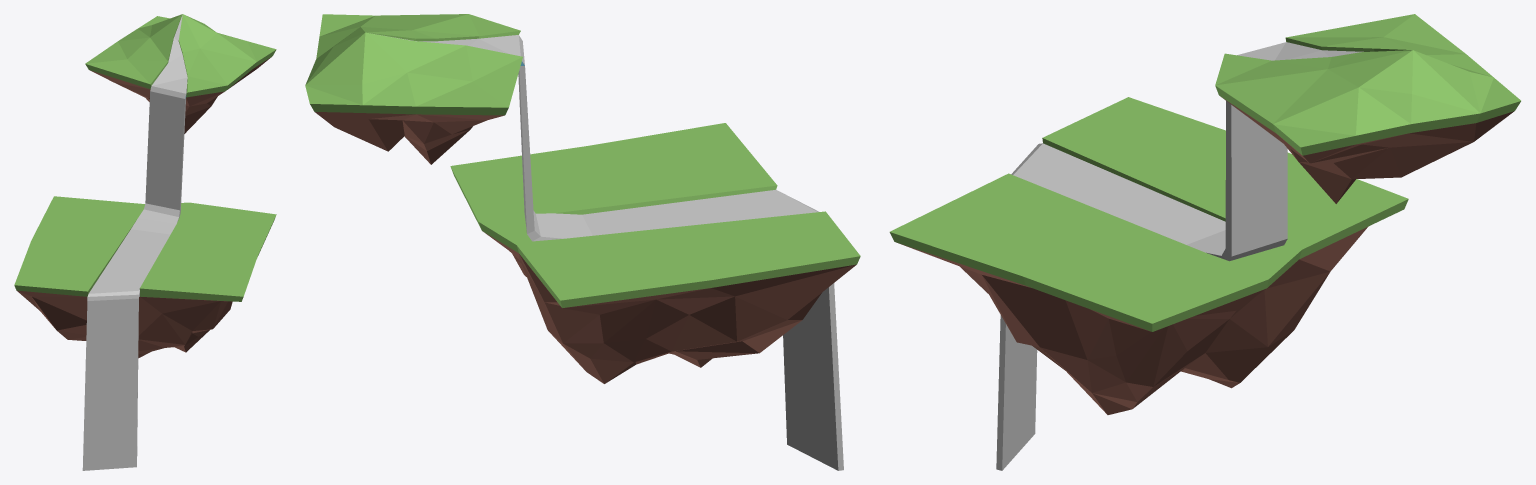
Rendered from Island10waterfall_tex.fbx.
3 views of the same model, side by side, from view 1: azimuth 30°, elevation 25°; view 2: azimuth 150°, elevation 25°; view 3: azimuth 270°, elevation 25° (orthographic). The views are drawn at different scales.
Visible parts, largest first — view 1: Island10waterfall_tex, Island10waterfall_tex.001; view 2: Island10waterfall_tex, Island10waterfall_tex.001; view 3: Island10waterfall_tex, Island10waterfall_tex.001.
Boxes of the visible parts, box(x1,y1,x2,y2) form: Island10waterfall_tex: box(14, 14, 276, 358); Island10waterfall_tex.001: box(82, 15, 187, 470); Island10waterfall_tex: box(305, 14, 860, 383); Island10waterfall_tex.001: box(380, 35, 843, 470); Island10waterfall_tex: box(889, 14, 1520, 414); Island10waterfall_tex.001: box(996, 42, 1363, 470).
Size of the model in its own units: 6.19 by 6.14 by 6.28.
